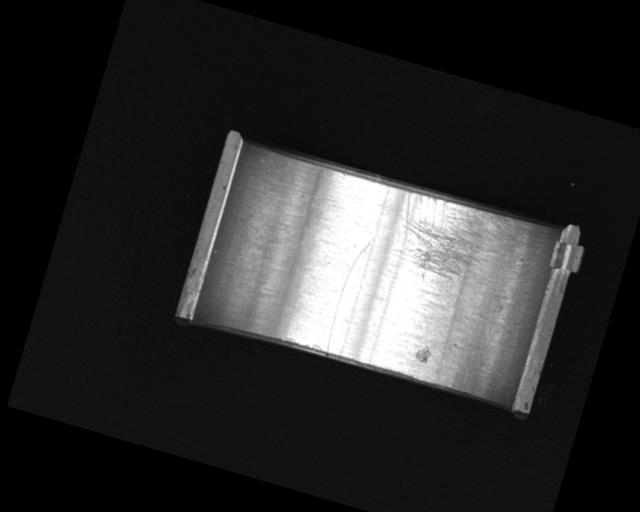bruise: (412, 343, 432, 365)
nick: (322, 236, 372, 358)
scratch: (381, 186, 511, 301)
